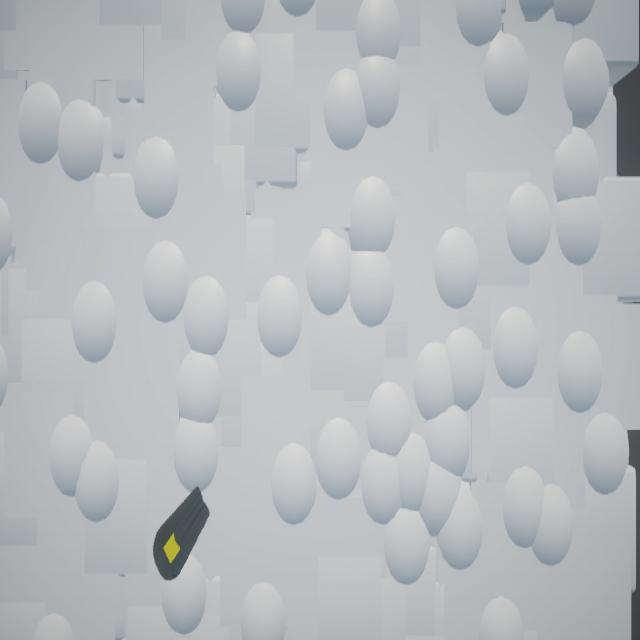handle_folk: (154, 486, 211, 582)
